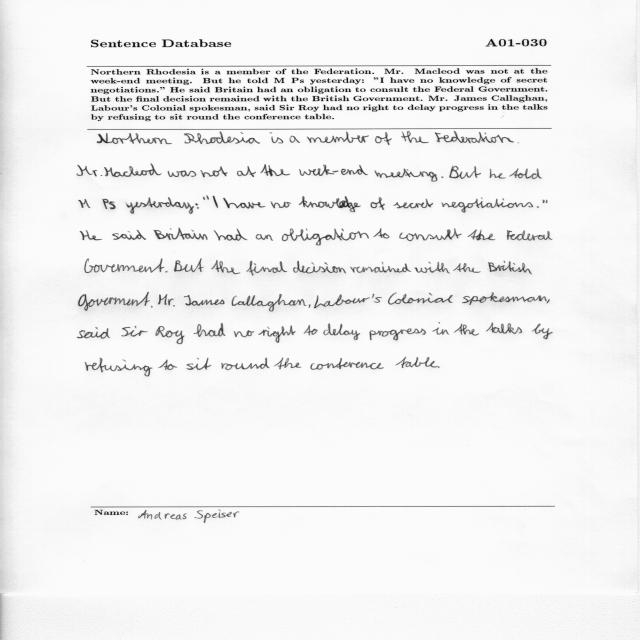word: (282, 229, 369, 246), (442, 197, 533, 213), (78, 292, 150, 311), (260, 165, 368, 177), (85, 358, 153, 377), (232, 294, 307, 311), (126, 197, 194, 214), (462, 292, 550, 305), (85, 259, 165, 273), (299, 196, 361, 212), (184, 131, 260, 144), (314, 294, 382, 308), (435, 131, 514, 143), (310, 358, 384, 370), (97, 133, 172, 144), (399, 229, 462, 242), (375, 169, 437, 182), (104, 164, 161, 177), (388, 293, 453, 304), (293, 261, 346, 274), (369, 329, 426, 341), (307, 132, 369, 143), (350, 262, 411, 273), (258, 325, 295, 343), (154, 228, 208, 240), (323, 323, 360, 340), (246, 261, 287, 276), (221, 358, 270, 370), (488, 261, 532, 274), (156, 326, 185, 344), (507, 230, 552, 241), (224, 198, 266, 209), (396, 357, 438, 368), (184, 295, 225, 306), (194, 323, 226, 337), (486, 322, 522, 334), (449, 166, 481, 179), (214, 229, 248, 241), (212, 260, 241, 274), (393, 199, 433, 209), (414, 262, 450, 273), (174, 259, 204, 272), (79, 199, 116, 209), (509, 168, 542, 179), (77, 327, 110, 338), (112, 230, 146, 240), (401, 131, 429, 143), (532, 324, 553, 340), (274, 358, 302, 370), (454, 324, 480, 336), (468, 230, 496, 241), (187, 358, 212, 370), (201, 167, 228, 178), (121, 326, 148, 337), (453, 263, 481, 273), (77, 165, 102, 176), (80, 231, 103, 241), (375, 132, 392, 145), (158, 294, 175, 307), (432, 322, 449, 335), (237, 166, 256, 177), (159, 359, 178, 370), (168, 170, 196, 177), (370, 197, 385, 210), (374, 228, 390, 239), (489, 169, 506, 179), (233, 330, 254, 337), (270, 133, 283, 144), (271, 202, 291, 209), (304, 325, 318, 335), (256, 234, 274, 241), (290, 136, 300, 143), (213, 196, 218, 208), (203, 196, 209, 200), (195, 204, 199, 209), (543, 200, 548, 203), (309, 304, 311, 308), (537, 206, 539, 208), (151, 306, 153, 308), (438, 366, 440, 368), (165, 271, 168, 272), (441, 177, 443, 178), (518, 142, 519, 143)
